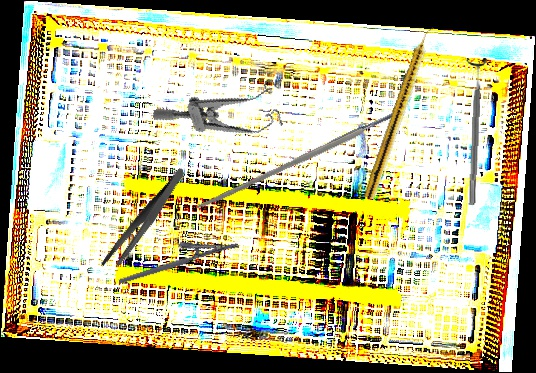Dressing Forceps: (83, 167, 206, 274)
Fixation Ring: (460, 57, 489, 206)
Handpiece: (363, 24, 437, 201)
Needle Holder: (113, 226, 240, 285)
Scalpel Handle: (195, 111, 398, 212)
Speculum: (151, 67, 296, 165)
